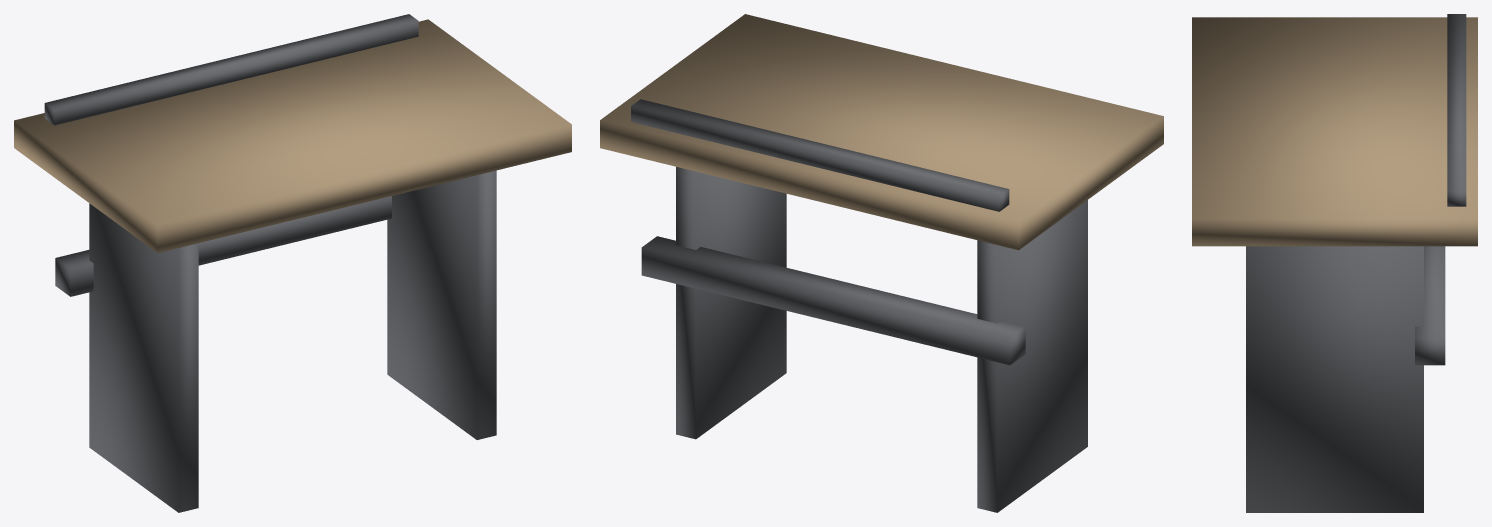
Rendered from drafting_table.glb.
3 views of the same model, side by side, from view 1: azimuth 30°, elevation 25°; view 2: azimuth 150°, elevation 25°; view 3: azimuth 270°, elevation 25° (orthographic).
Parts seen in each view (by area): view 1: world; view 2: world; view 3: world.
Boxes of the visible parts, x1,y1,x2,y2 form: world: (14, 14, 571, 512); world: (600, 14, 1163, 512); world: (1192, 14, 1477, 512).
Size of the model in its own units: 1.25 by 0.965 by 0.75.
